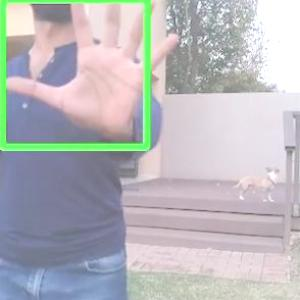follow_hand: (2, 0, 185, 137)
